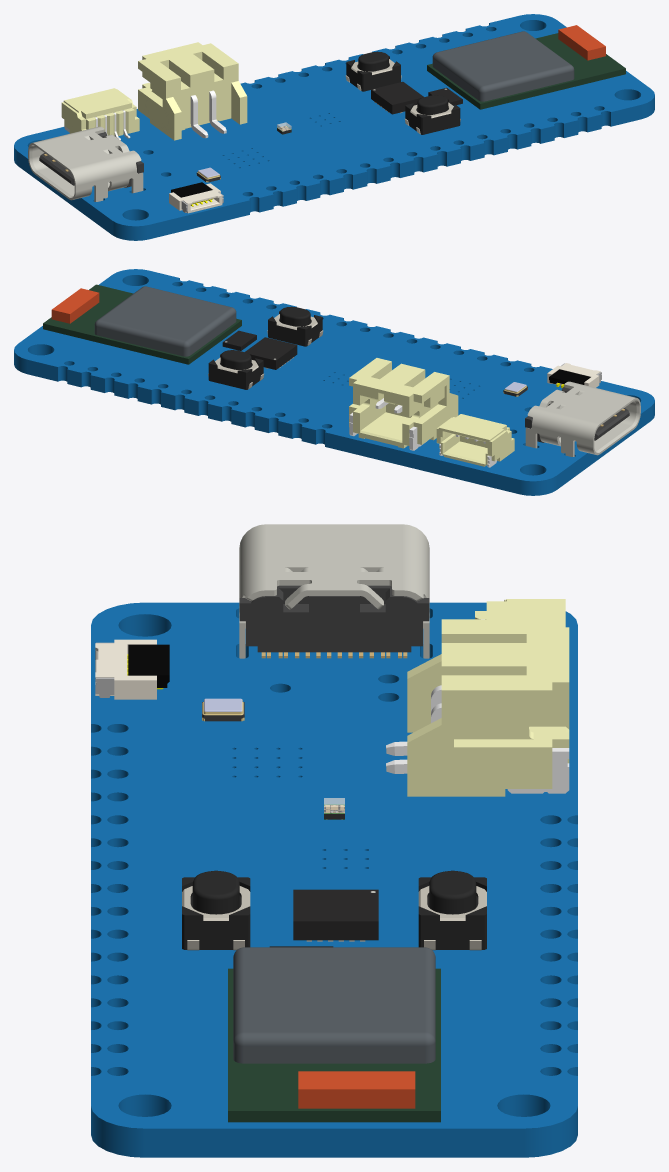
Rendered from board.glb.
The picture shows the model from 3 angles, top to bottom: view 1: azimuth 30°, elevation 25°; view 2: azimuth 150°, elevation 25°; view 3: azimuth 270°, elevation 25°; orthographic projection. The views are drawn at different scales.
Parts seen in each view (by area): view 1: =>[0:1:1:28], =>[0:1:1:5], =>[0:1:1:3], =>[0:1:1:12], =>[0:1:1:18] (×2), =>[0:1:1:27], =>[0:1:1:20], =>[0:1:1:23], =>[0:1:1:24]; view 2: =>[0:1:1:28], =>[0:1:1:5], =>[0:1:1:3], =>[0:1:1:12], =>[0:1:1:18] (×2), =>[0:1:1:27], =>[0:1:1:20], =>[0:1:1:23], =>[0:1:1:14], =>[0:1:1:24]; view 3: =>[0:1:1:28], =>[0:1:1:5], =>[0:1:1:3], =>[0:1:1:12], =>[0:1:1:18] (×2), =>[0:1:1:20], =>[0:1:1:23], =>[0:1:1:27], =>[0:1:1:24], =>[0:1:1:16].
Boxes of the visible parts, box(x1,y1,x2,y2) form: =>[0:1:1:28]: box(14, 14, 654, 240); =>[0:1:1:5]: box(427, 25, 625, 109); =>[0:1:1:3]: box(138, 42, 247, 140); =>[0:1:1:12]: box(28, 126, 143, 201); =>[0:1:1:18] (×2): box(345, 51, 460, 134); =>[0:1:1:27]: box(61, 88, 139, 140); =>[0:1:1:20]: box(371, 81, 423, 114); =>[0:1:1:23]: box(169, 183, 222, 213); =>[0:1:1:24]: box(171, 182, 212, 197); =>[0:1:1:28]: box(14, 269, 654, 495); =>[0:1:1:5]: box(43, 284, 241, 364); =>[0:1:1:3]: box(349, 358, 458, 450); =>[0:1:1:12]: box(525, 381, 640, 456); =>[0:1:1:18] (×2): box(208, 306, 323, 389); =>[0:1:1:27]: box(436, 414, 514, 467); =>[0:1:1:20]: box(245, 337, 297, 369); =>[0:1:1:23]: box(547, 363, 600, 387); =>[0:1:1:14]: box(222, 330, 256, 350); =>[0:1:1:24]: box(549, 369, 590, 384); =>[0:1:1:28]: box(91, 602, 577, 1157); =>[0:1:1:5]: box(228, 947, 440, 1122); =>[0:1:1:3]: box(386, 619, 569, 796); =>[0:1:1:12]: box(239, 524, 429, 658); =>[0:1:1:18] (×2): box(182, 870, 486, 950); =>[0:1:1:20]: box(293, 889, 378, 941); =>[0:1:1:23]: box(95, 639, 163, 699); =>[0:1:1:27]: box(475, 599, 565, 627); =>[0:1:1:24]: box(128, 644, 169, 687); =>[0:1:1:16]: box(202, 698, 244, 721).
Size of the model in its own units: 0.0598 by 0.00709 by 0.0229.
